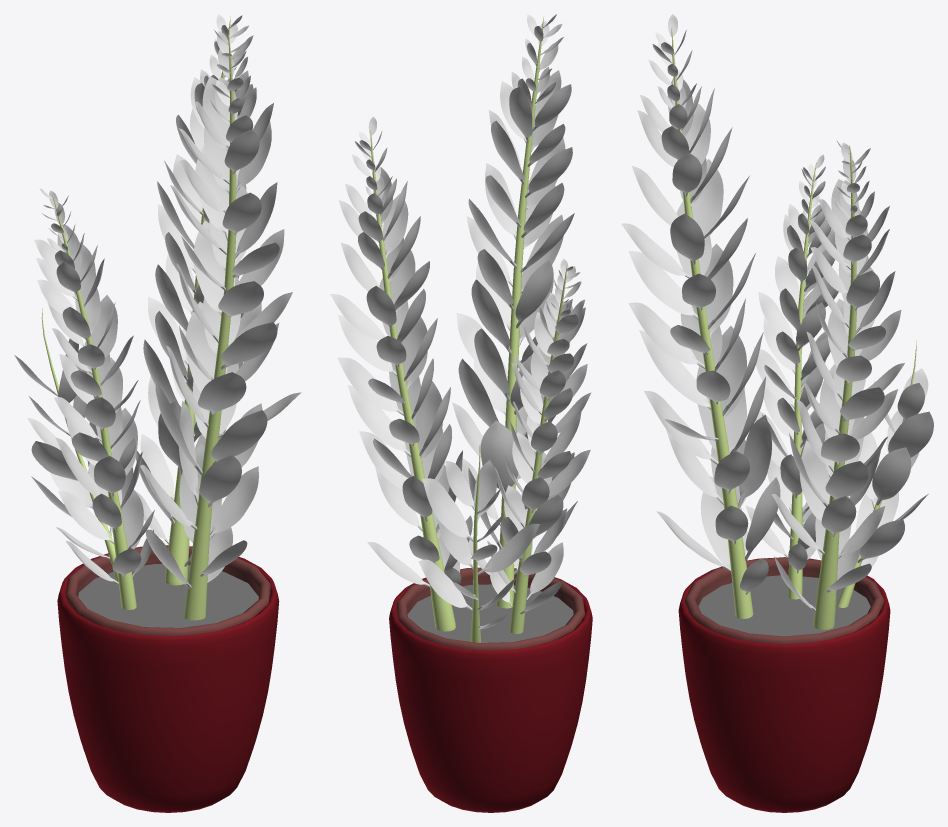
Rendered from plant.fbx.
3 views of the same model, side by side, from view 1: azimuth 30°, elevation 25°; view 2: azimuth 150°, elevation 25°; view 3: azimuth 270°, elevation 25° (orthographic). The views are drawn at different scales.
Visible parts, largest first — view 1: Circle; view 2: Circle; view 3: Circle.
Boxes of the visible parts, box(x1,y1,x2,y2) form: Circle: box(14, 14, 301, 812); Circle: box(330, 14, 592, 812); Circle: box(621, 14, 933, 812).
Bounding box in the file's own units: 2.37 × 7.6 × 2.8.
